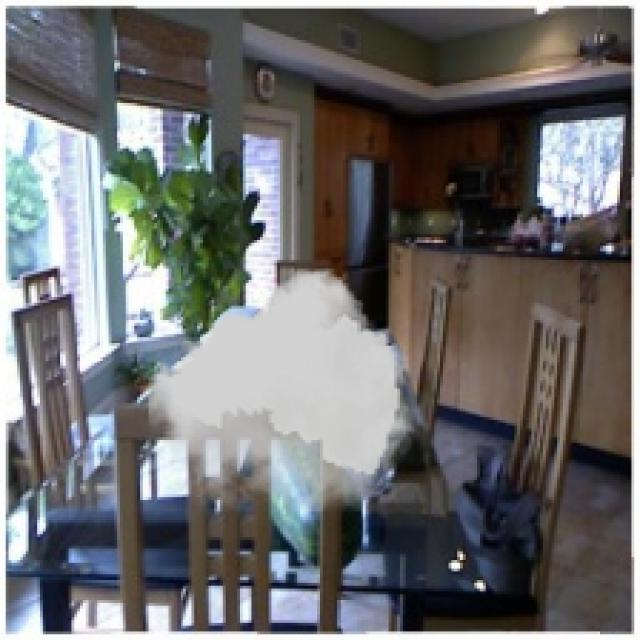Smoke: (148, 268, 412, 512)
